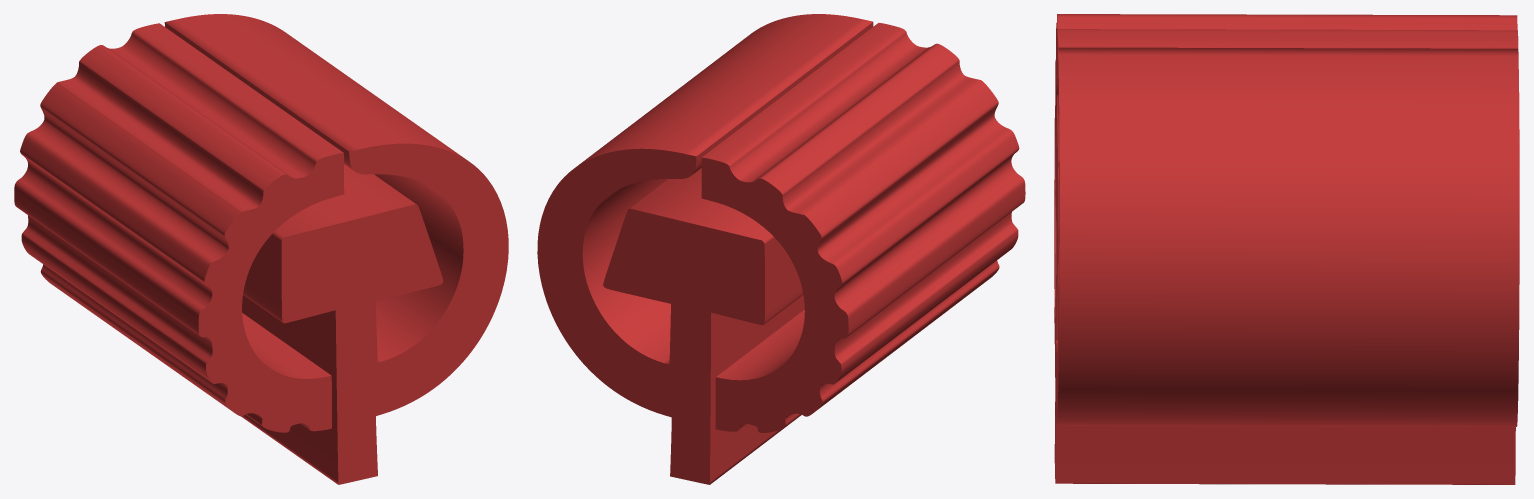
Rendered from cpusa.glb.
3 renders of one model, left to right at view 1: azimuth 30°, elevation 25°; view 2: azimuth 150°, elevation 25°; view 3: azimuth 270°, elevation 25°, orthographic. The views are drawn at different scales.
Visible parts, largest first — view 1: Curve; view 2: Curve; view 3: Curve.
Part boxes in pixels (x1,y1,x2,y2): Curve: (14, 14, 508, 484); Curve: (537, 14, 1025, 484); Curve: (1054, 14, 1519, 484).
Bounding box in the file's own units: 32.07 × 32.45 × 32.37.
